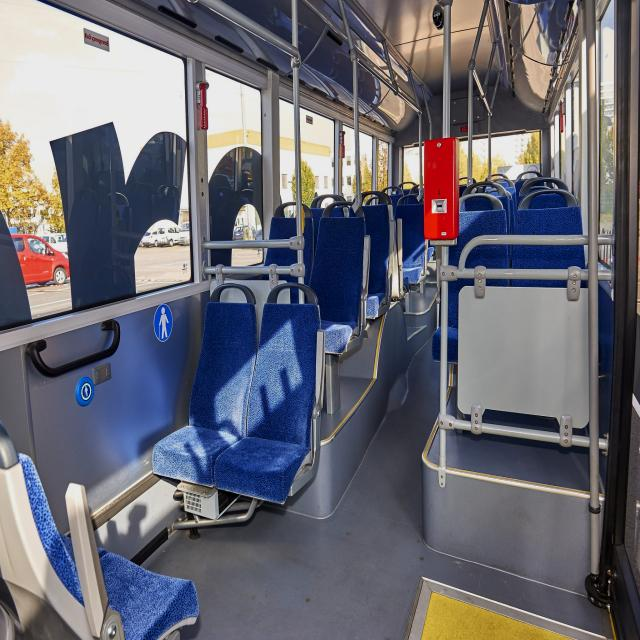asiento-libre: (0, 418, 194, 638), (216, 282, 324, 506), (151, 282, 261, 490), (430, 201, 510, 377), (306, 205, 368, 344), (512, 200, 588, 288), (347, 199, 390, 305), (284, 199, 322, 290), (394, 190, 428, 289), (263, 208, 303, 292), (214, 197, 250, 267), (473, 179, 515, 235), (516, 178, 556, 198), (383, 184, 406, 216), (394, 181, 418, 201), (485, 173, 514, 188), (460, 176, 478, 192), (516, 170, 542, 178), (408, 184, 421, 196)
